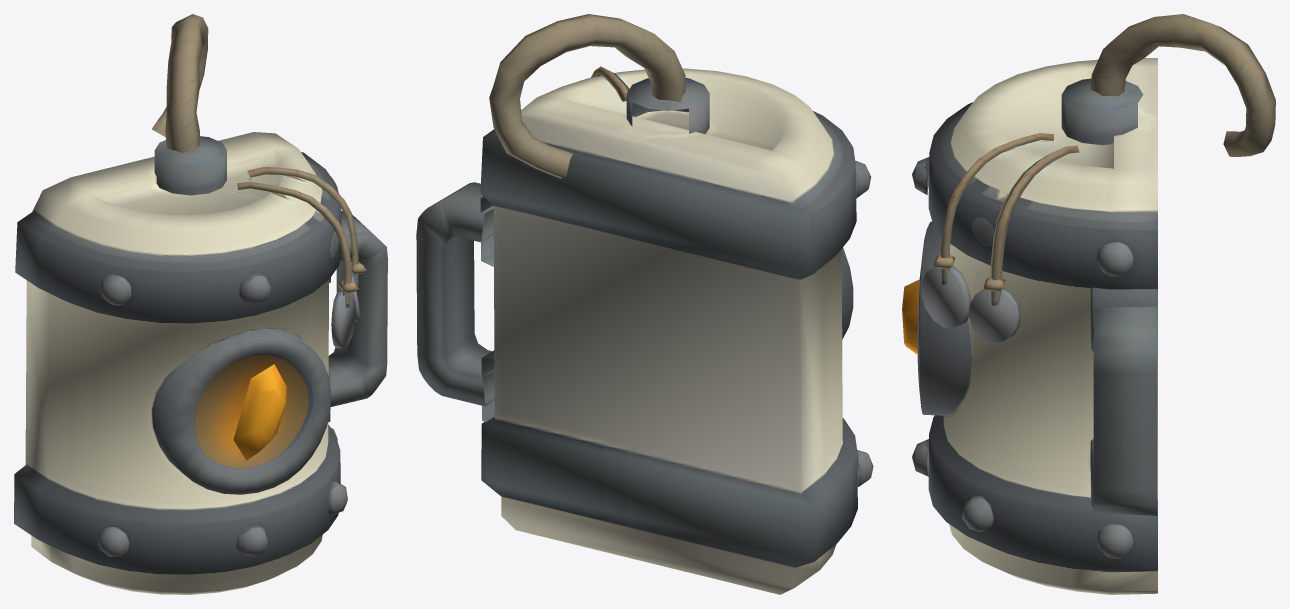
File: gp_bomb.glb
3 views of the same model, side by side, from view 1: azimuth 30°, elevation 25°; view 2: azimuth 150°, elevation 25°; view 3: azimuth 270°, elevation 25° (orthographic). The views are drawn at different scales.
Parts seen in each view (by area): view 1: gp_bomb; view 2: gp_bomb; view 3: gp_bomb.
Part boxes in pixels (box(x1,y1,x2,y2)): gp_bomb: box(14, 14, 387, 594); gp_bomb: box(416, 14, 873, 594); gp_bomb: box(902, 14, 1275, 594).
Size of the model in its own units: 0.7651 by 0.9995 by 0.6323.
Materials: 1 (1 with a texture image).
